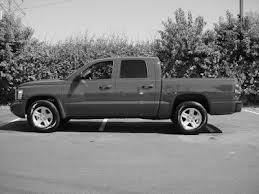car: (11, 55, 244, 135)
